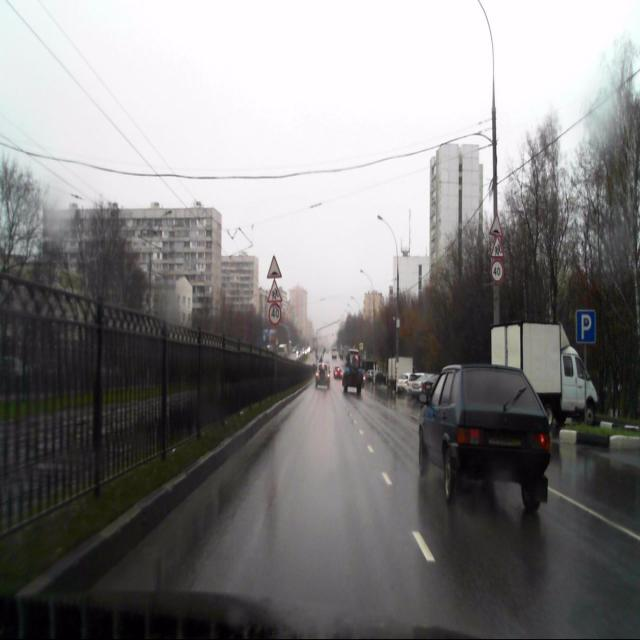road sign: (576, 310, 595, 343), (267, 255, 282, 278), (267, 278, 282, 301), (490, 236, 504, 260), (490, 212, 502, 236)
